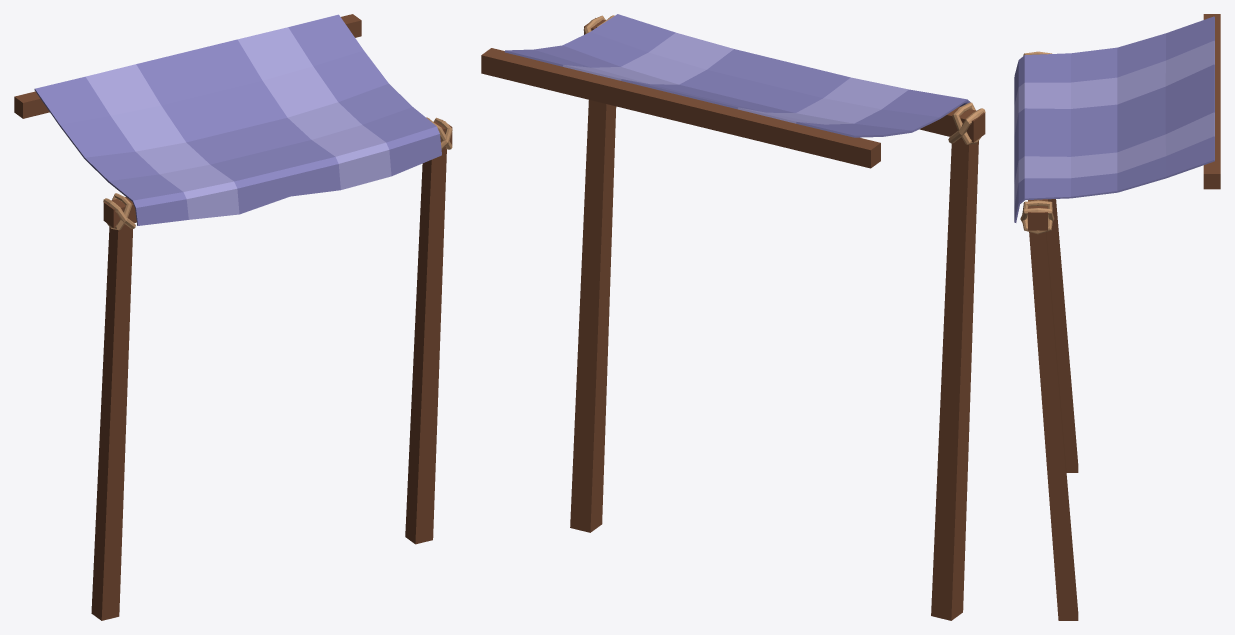
File: Tent_01.fbx
3 renders of one model, left to right at view 1: azimuth 30°, elevation 25°; view 2: azimuth 150°, elevation 25°; view 3: azimuth 270°, elevation 25°, orthographic. The views are drawn at different scales.
Visible parts, largest first — view 1: Tent_01; view 2: Tent_01; view 3: Tent_01.
Part boxes in pixels (x1,y1,x2,y2): Tent_01: [14, 14, 452, 620]; Tent_01: [481, 14, 985, 620]; Tent_01: [1014, 14, 1220, 620].
Size of the model in its own units: 223 by 295 by 121.
